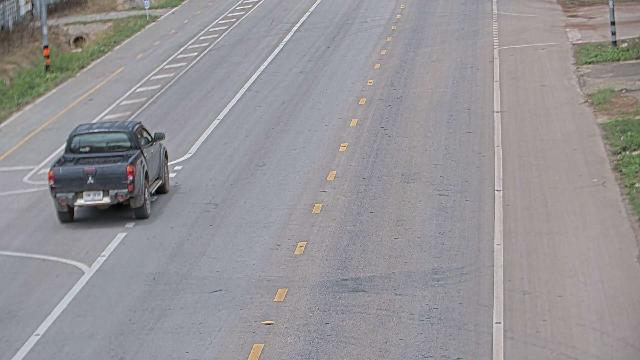pickup-truck: (47, 119, 170, 223)
